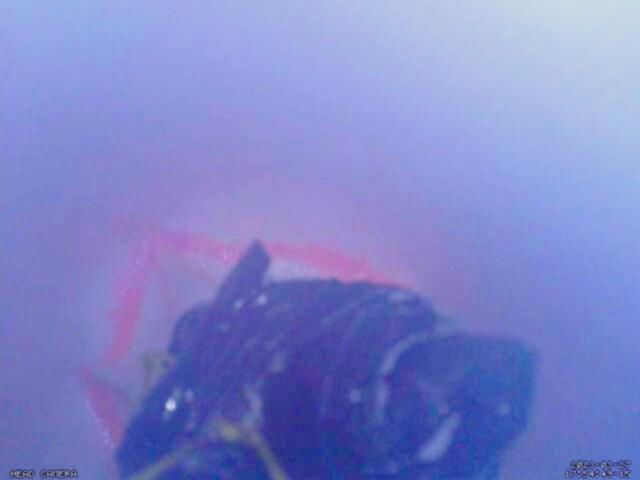head: (78, 225, 390, 446)
